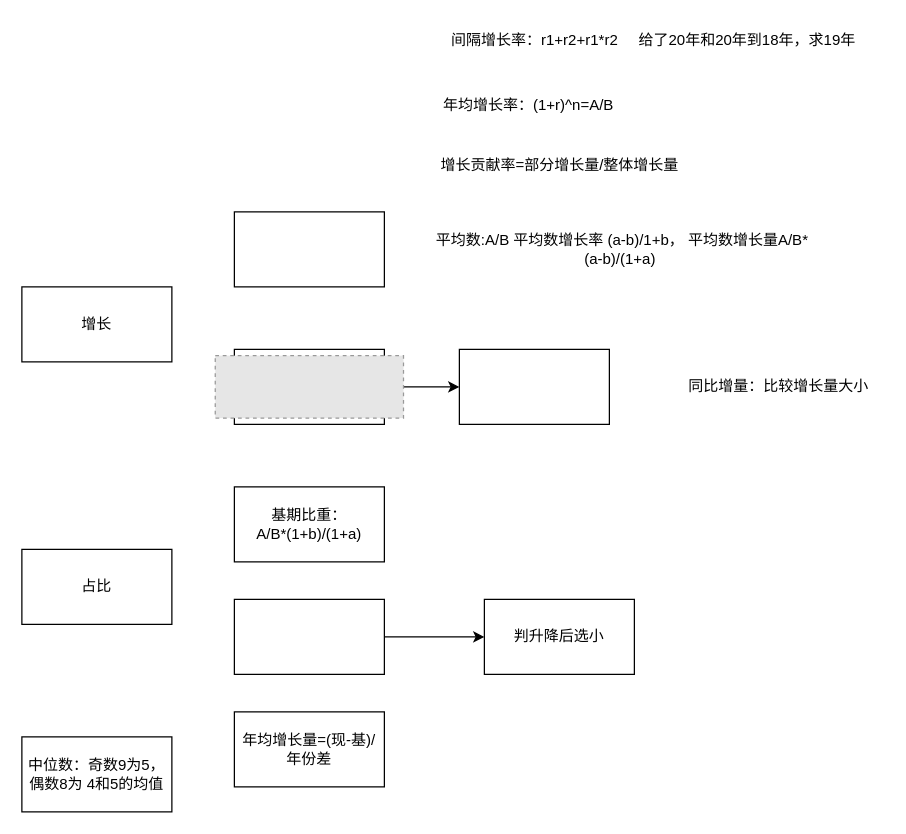
Image size: 906x834. Some labels were removed from this diagram. Grey dashed boxes stand in for pictures. Each missing label, with the centre of its shape:
"两期比重： A/B*(a-b)/(1+a)" belongs at (x=308, y=636).
"增长量比大小：大大为大否则百分化" belongs at (x=533, y=386).
